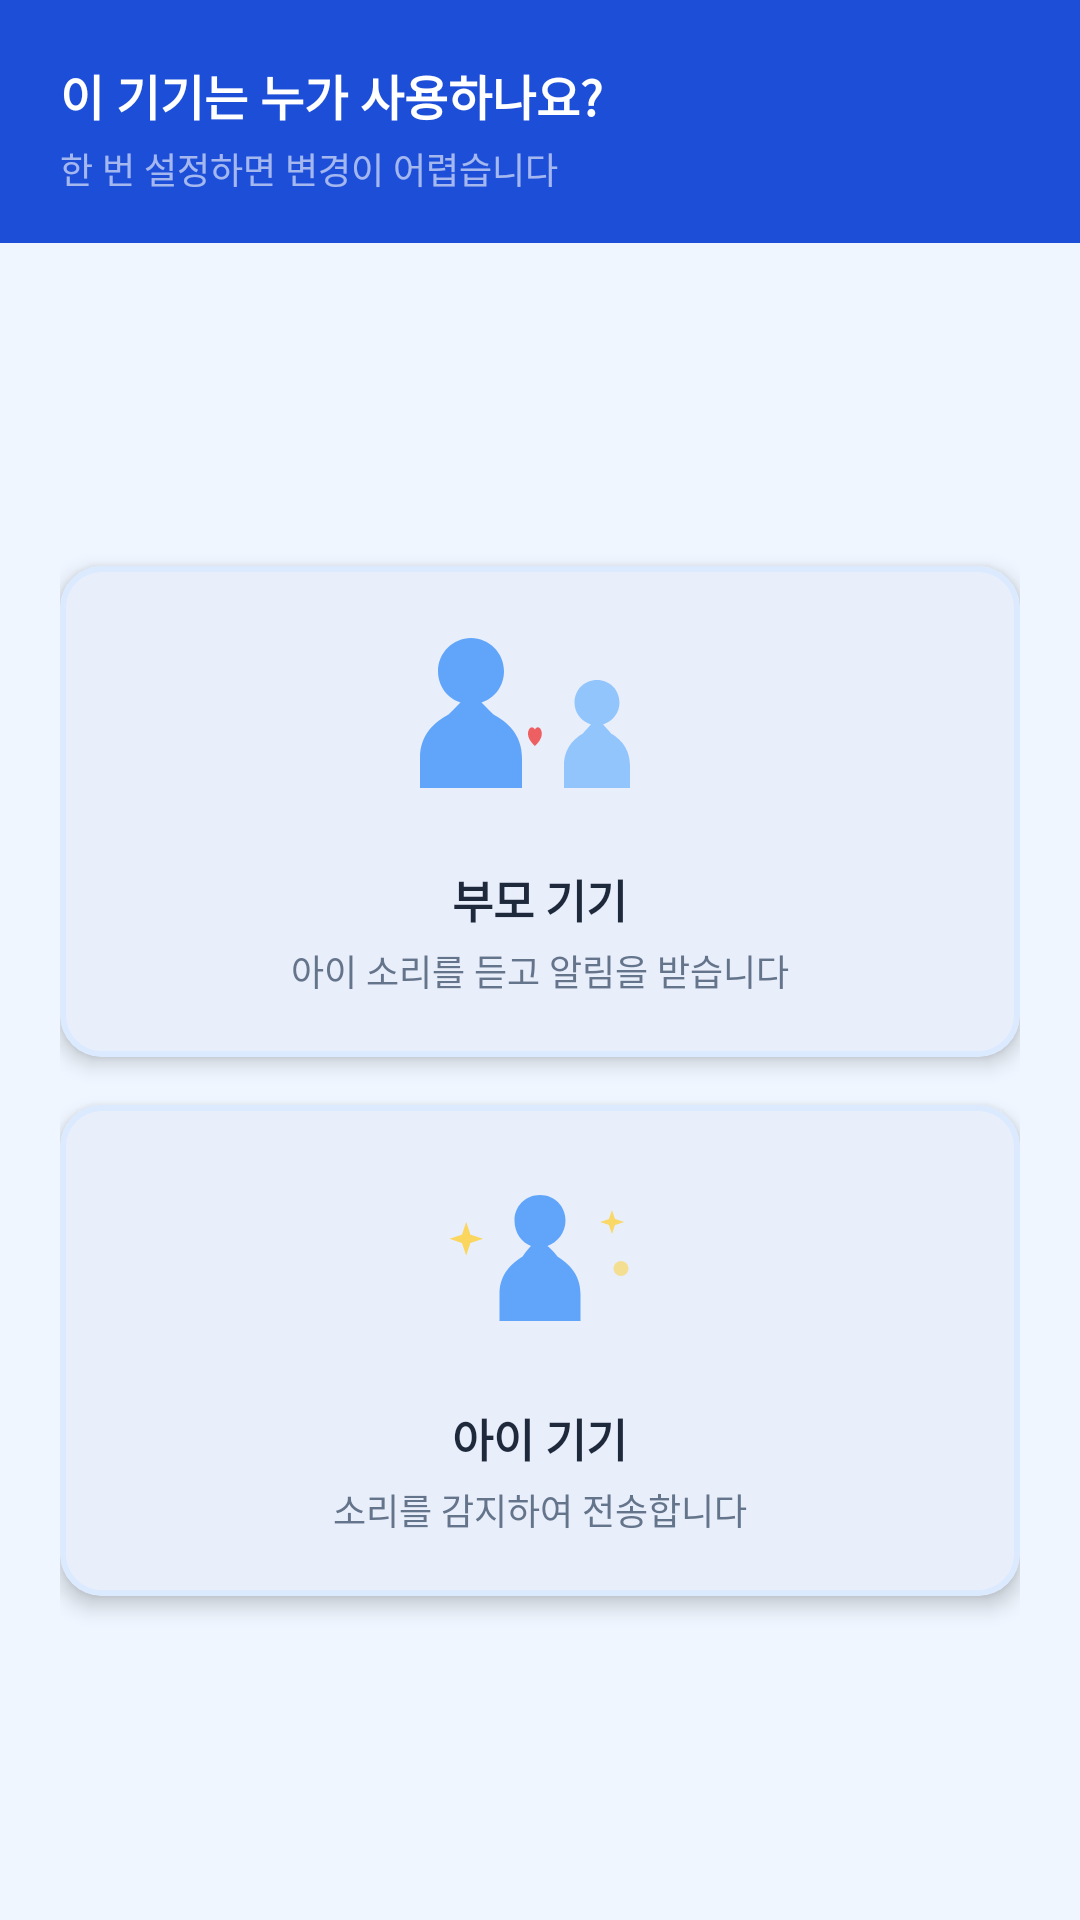

Point at icon controls on the screen. Image size 1080 × 1920, points as (x=x, y=y).
person child: (x=539, y=1258)
